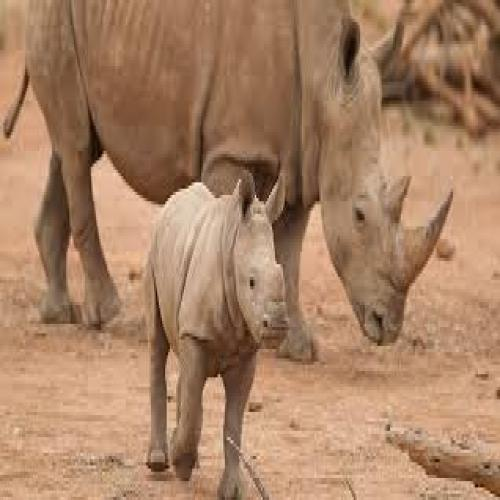rhino-endangered: (4, 3, 454, 364), (144, 175, 289, 494)
